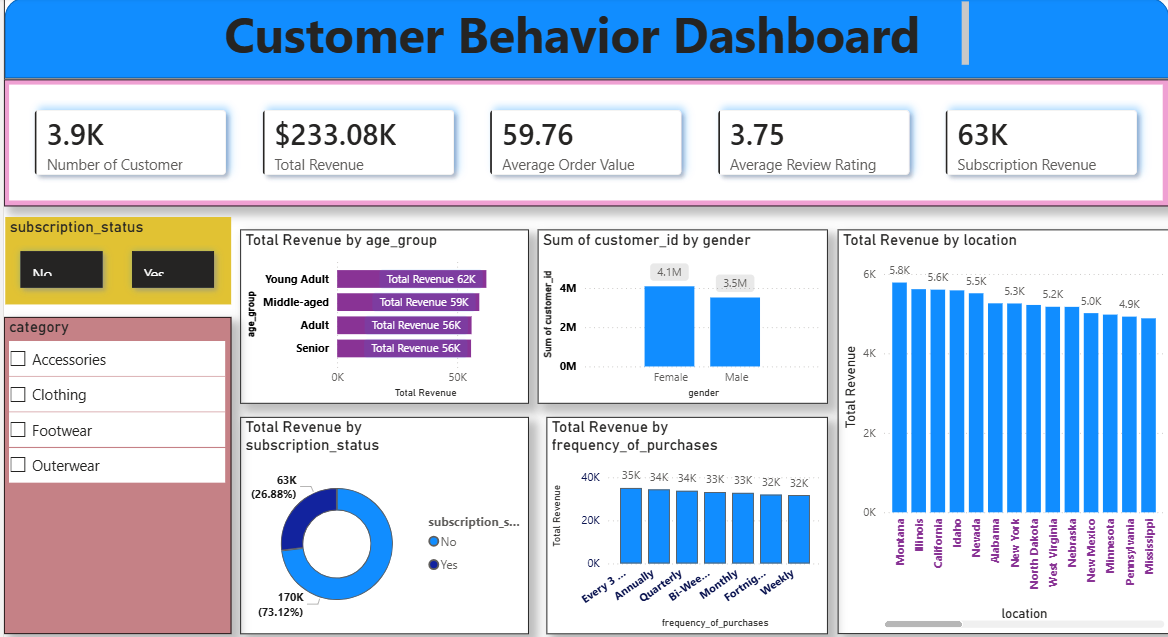

Layout of this report page (visuals, bound fields, positions):
{"tool":"powerbi","page":{"name":"Page 1","canvas":[1280,720],"ordinal":0},"visuals":[{"type":"cardVisual","fields":{"Data":["customer_behaviour.Number of Customer","customer_behaviour.Total Revenue","customer_behaviour.Average Order Value","customer_behaviour.Average Review Rating","customer_behaviour.Subscription Revenue"]},"box":[0,90.1,1280.3,139.4],"z":0},{"type":"shape","box":[0,0,1280.3,90.1],"z":1000},{"type":"textbox","box":[191.5,0,871.8,80.3],"z":2000},{"type":"barChart","fields":{"Y":["customer_behaviour.Total Revenue"],"Category":["customer_behaviour.age_group"]},"box":[259.2,254.9,316.9,191.5],"z":3000},{"type":"clusteredColumnChart","fields":{"Category":["customer_behaviour.gender"],"Y":["Sum(customer_behaviour.customer_id)"]},"box":[585.9,254.9,318.3,191.5],"z":4000},{"type":"columnChart","fields":{"Category":["customer_behaviour.location"],"Y":["customer_behaviour.Total Revenue"]},"box":[915.5,254.9,364.8,443.7],"z":5000},{"type":"clusteredColumnChart","fields":{"Category":["customer_behaviour.frequency_of_purchases"],"Y":["customer_behaviour.Total Revenue"]},"box":[595.8,460.6,308.5,238],"z":6000},{"type":"donutChart","fields":{"Category":["customer_behaviour.subscription_status"],"Y":["customer_behaviour.Total Revenue"]},"box":[259.2,460.6,316.9,238],"z":7000},{"type":"advancedSlicerVisual","fields":{"Values":["customer_behaviour.subscription_status"]},"box":[1.4,240.8,247.9,95.8],"z":8000},{"type":"listSlicer","fields":{"Values":["customer_behaviour.category"]},"box":[0,350.7,249.3,347.9],"z":9000}]}

Visuals, with their boxes in screenshot pixels (x1, y1, x2, y2):
cardVisual - customer_behaviour.Number of Customer x customer_behaviour.Total Revenue: <box>0,78,1156,204</box>
shape: <box>0,0,1156,78</box>
textbox: <box>173,0,960,69</box>
barChart - customer_behaviour.Total Revenue x customer_behaviour.age_group: <box>234,227,520,400</box>
clusteredColumnChart - customer_behaviour.gender x Sum(customer_behaviour.customer_id): <box>529,227,816,400</box>
columnChart - customer_behaviour.location x customer_behaviour.Total Revenue: <box>826,227,1156,628</box>
clusteredColumnChart - customer_behaviour.frequency_of_purchases x customer_behaviour.Total Revenue: <box>538,413,816,628</box>
donutChart - customer_behaviour.subscription_status x customer_behaviour.Total Revenue: <box>234,413,520,628</box>
advancedSlicerVisual - customer_behaviour.subscription_status: <box>1,214,225,301</box>
listSlicer - customer_behaviour.category: <box>0,314,225,628</box>
